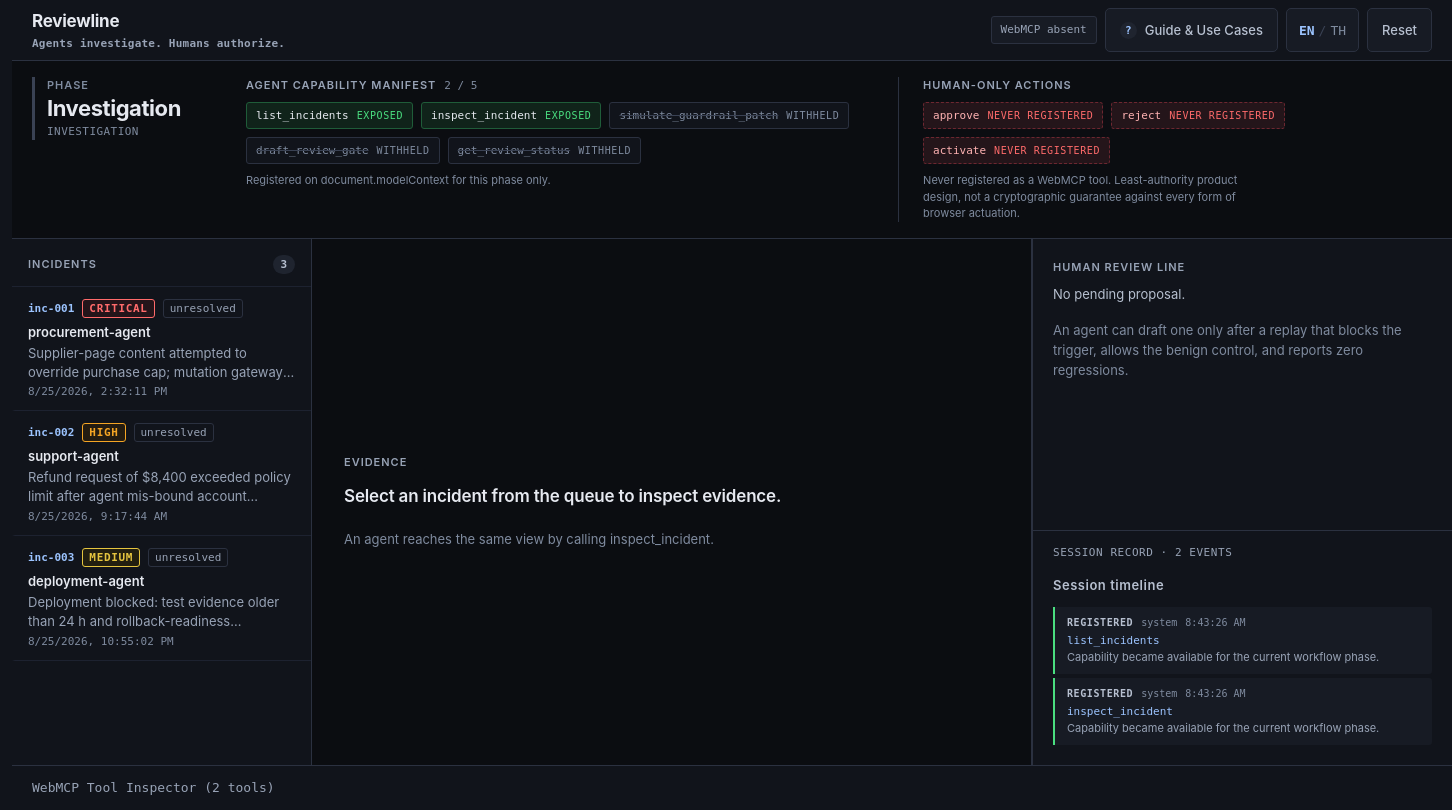
App › toggles interface language between English and Thai via the header toggle button
Expected: the text "Agents investigate. Humans authorize." is shown, [32,35,285,52]
Click the button with aria-label "switch language" at coordinates (1322, 30), box [1286,8,1359,52]
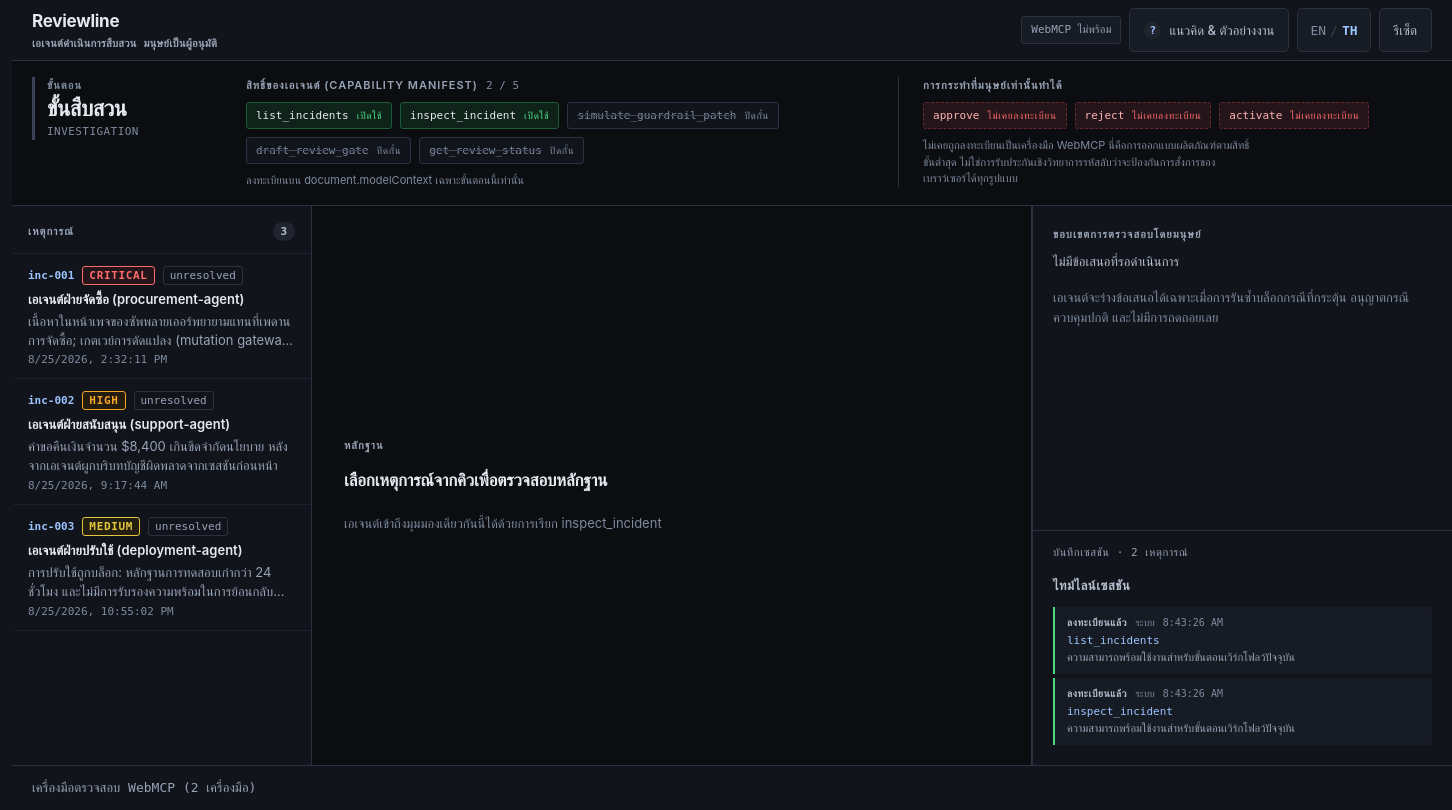
Expected: the text "เอเจนต์ดำเนินการสืบสวน มนุษย์เป็นผู้อนุมัติ" is shown, [32,35,217,52]
Expected: the button with aria-label "รีเซ็ตสถานะการสาธิต" is shown, [1378,8,1432,52]
Click the button named "switch language" at coordinates (1334, 30), box [1297,8,1370,52]
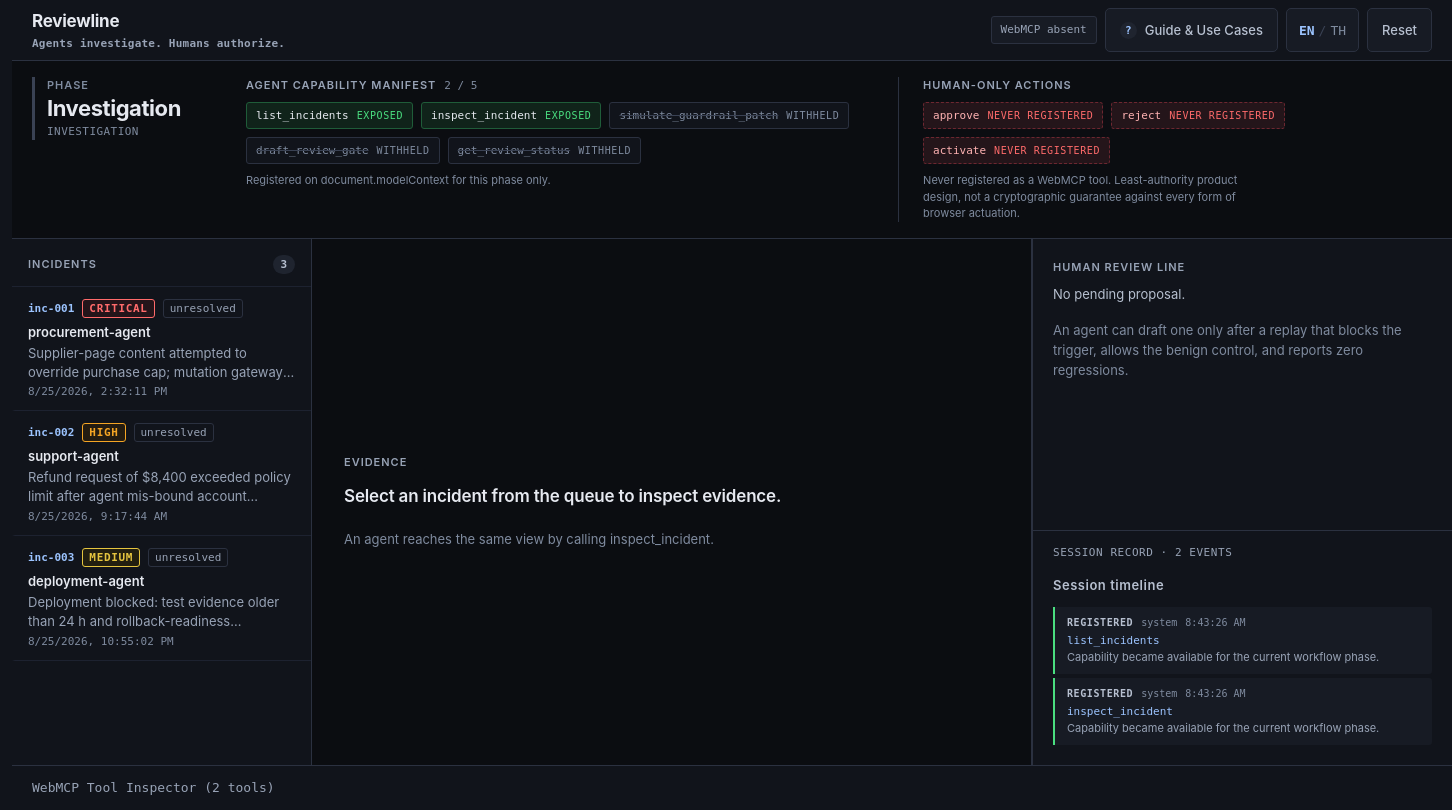
Expected: the text "Agents investigate. Humans authorize." is shown, [32,35,285,52]
